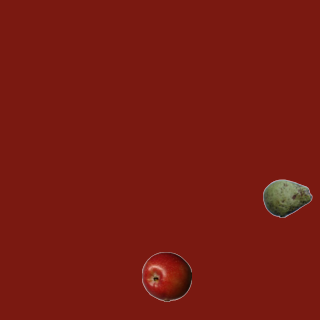Apple Braeburn: (141, 251, 191, 301)
Pear Stone: (262, 173, 312, 223)
